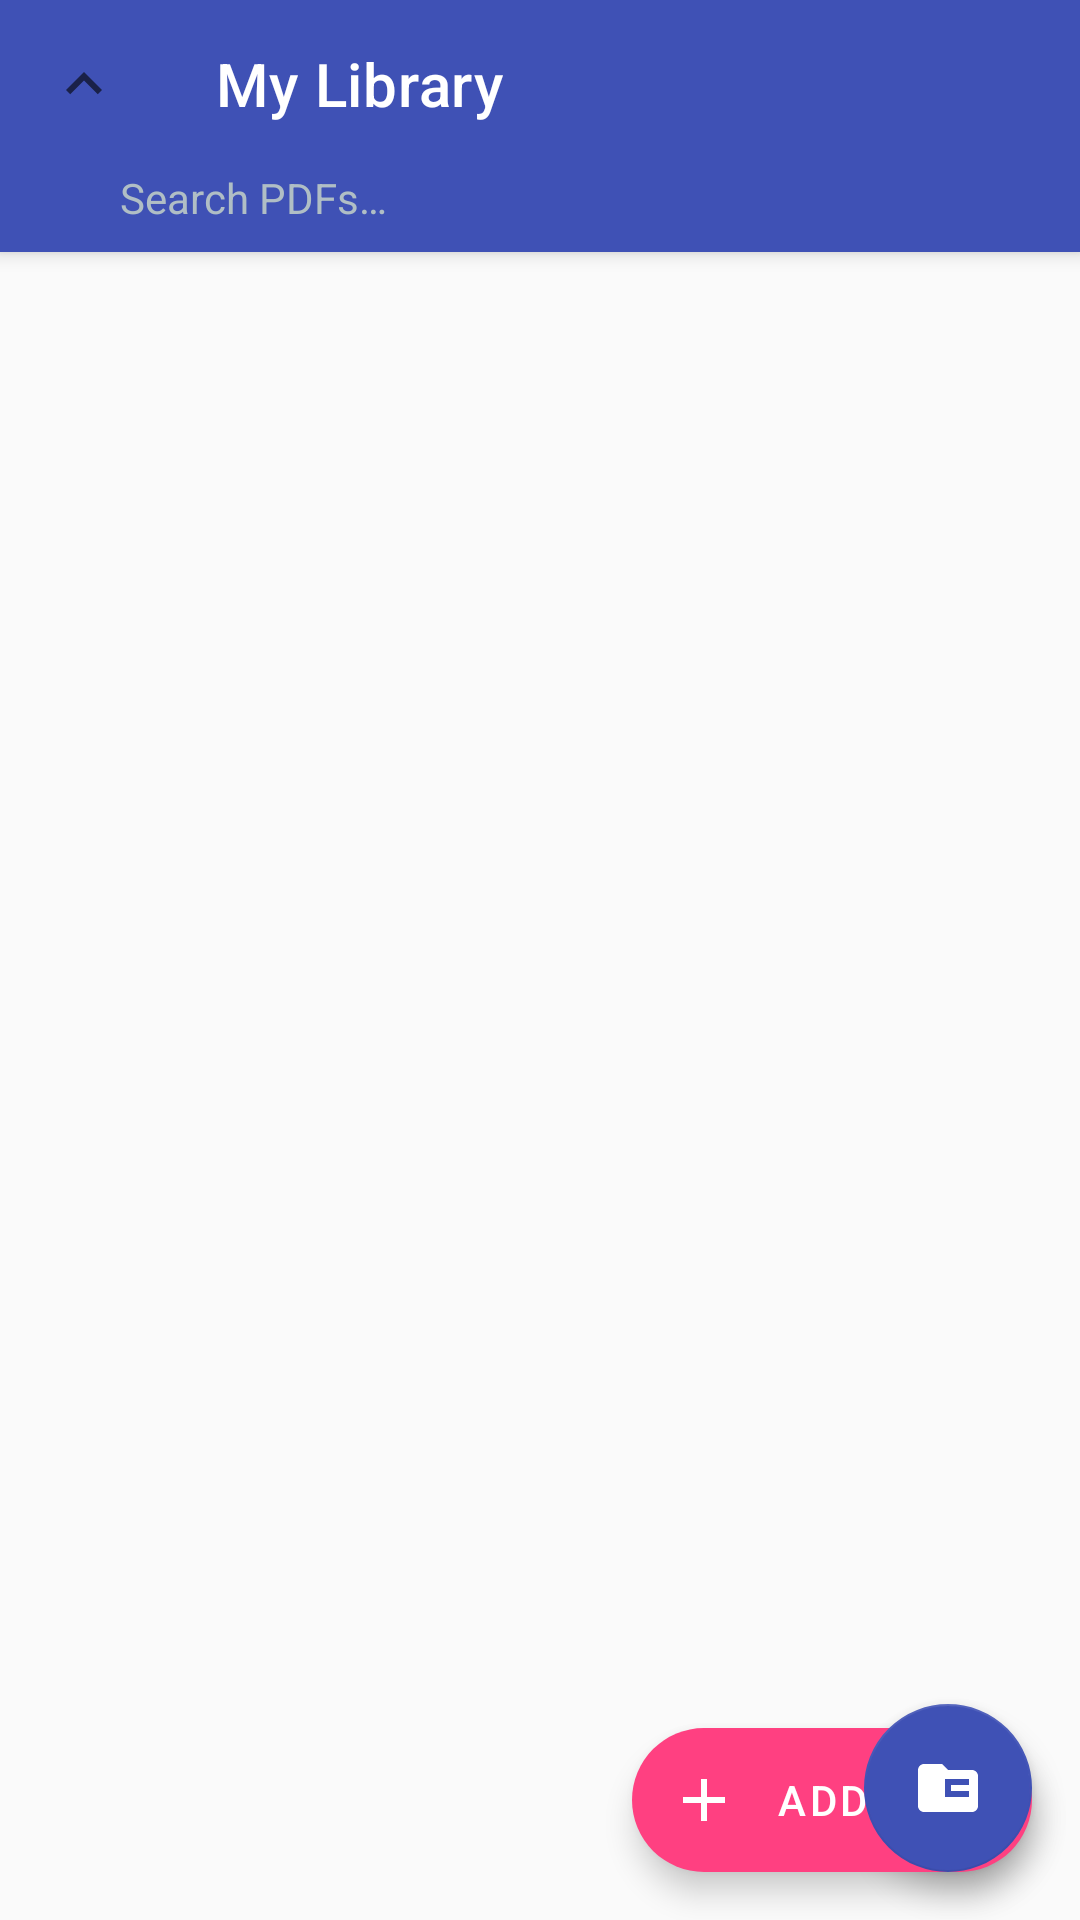

Point at icon controls on the screen. Image size 1080x1920, points as (x=x, y=y).
folder: (x=948, y=1788)
